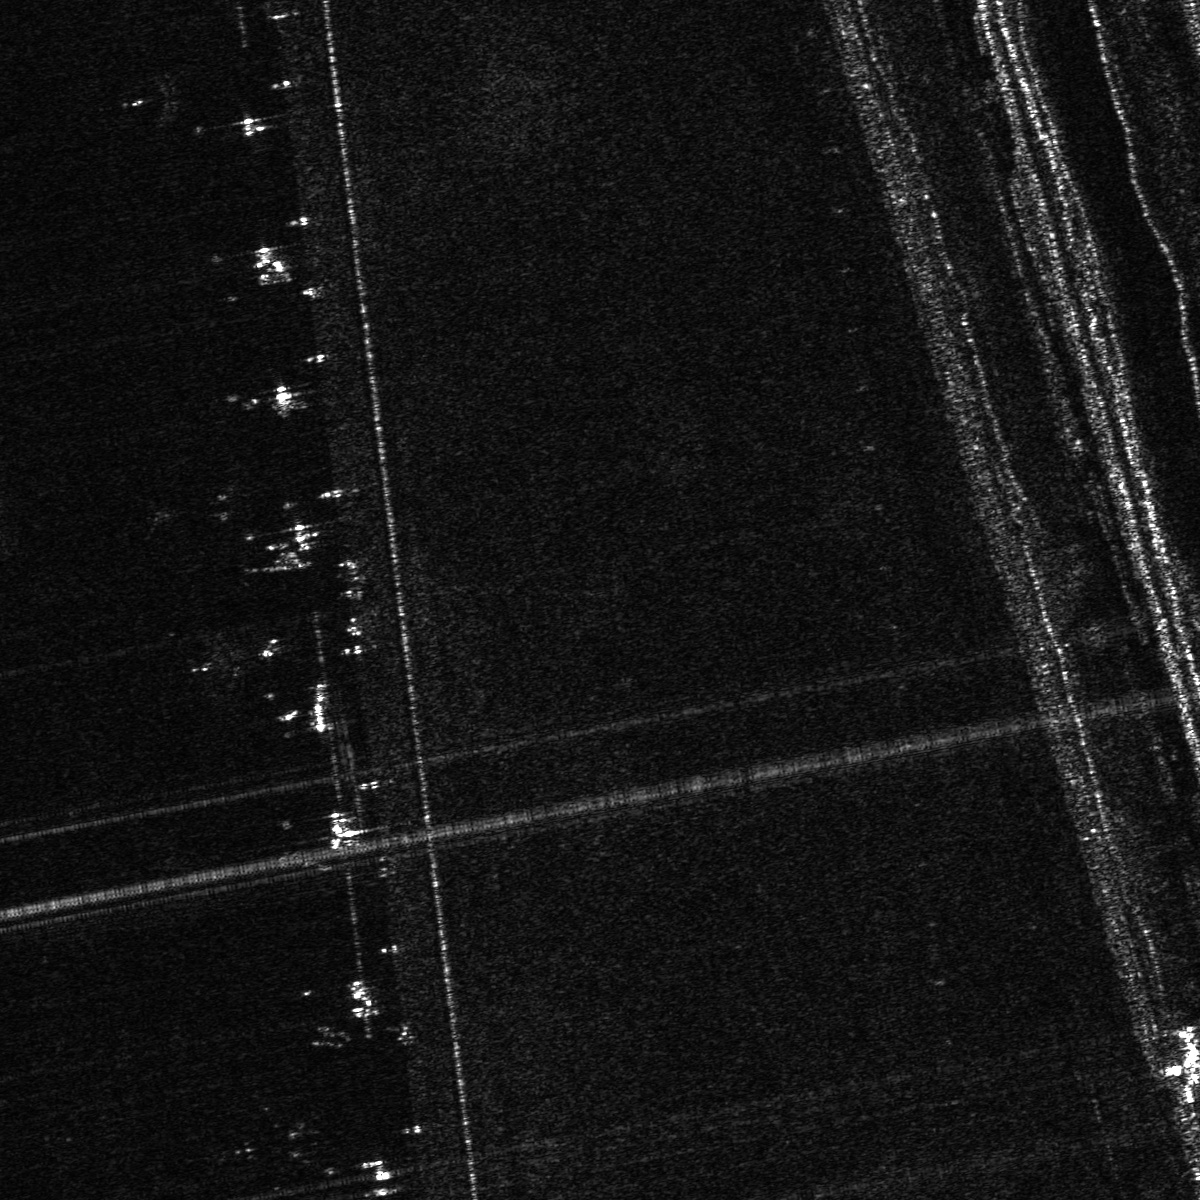A220: (184, 630, 254, 697)
Boeing787: (213, 1089, 326, 1199), (119, 63, 195, 131)
